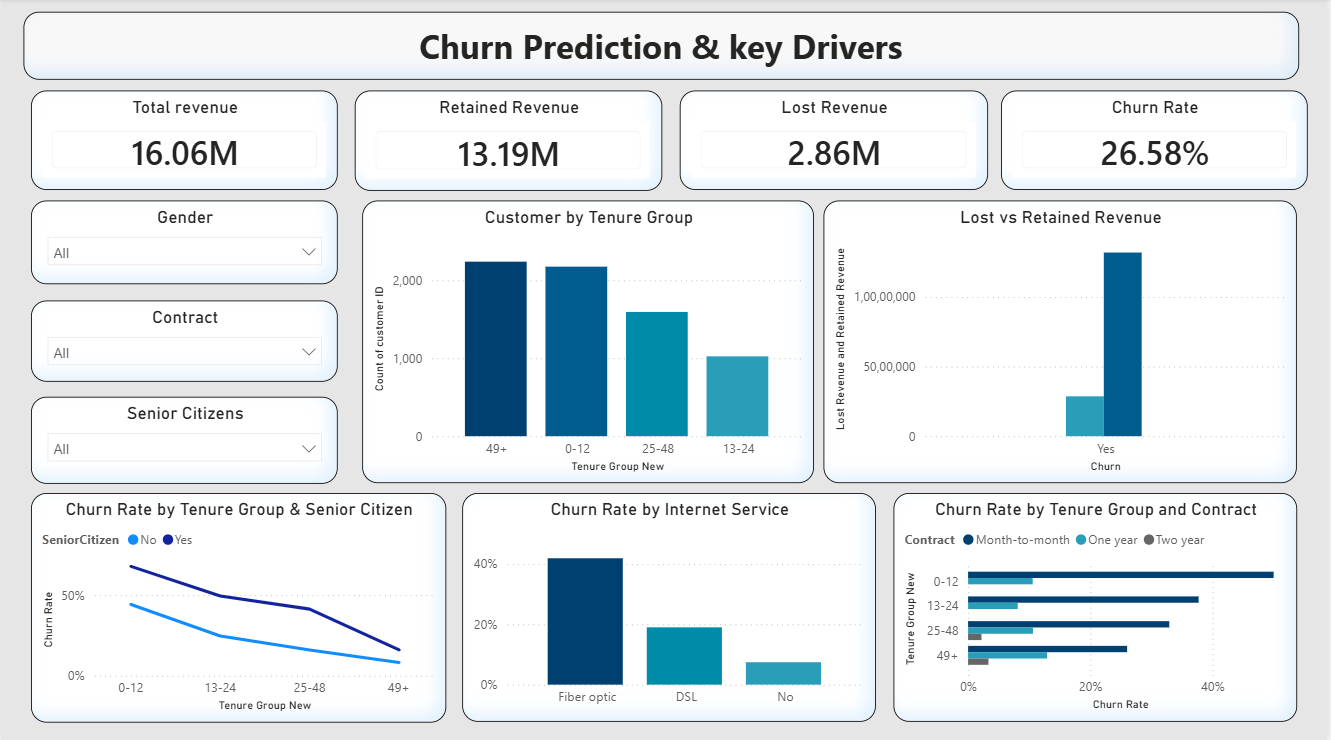

This screenshot's page, from the dashboard's own definition file:
{"tool":"powerbi","page":{"name":"🎯 Churn Prediction & Key Drivers","canvas":[1280,720],"ordinal":4},"visuals":[{"type":"slicer","title":"Gender","fields":{"Values":["Telco-Customer-Churn.gender"]},"box":[29,195.4,296.4,81],"z":0},{"type":"slicer","title":"Senior Citizens","fields":{"Values":["Telco-Customer-Churn.SeniorCitizen"]},"box":[29,384.9,296.4,83.7],"z":1000},{"type":"slicer","title":"Contract","fields":{"Values":["Telco-Customer-Churn.Contract"]},"box":[29,292,296.4,78.2],"z":2000},{"type":"cardVisual","title":"Total revenue","fields":{"Data":["Telco-Customer-Churn.Total Revenue"]},"box":[29,89.3,296.4,96.1],"z":3000},{"type":"cardVisual","title":"Churn Rate","fields":{"Data":["Telco-Customer-Churn.Churn Rate"]},"box":[965.2,89.3,296.4,96.1],"z":4000},{"type":"cardVisual","title":"Retained Revenue","fields":{"Data":["Telco-Customer-Churn.Retained Revenue"]},"box":[341.4,89.3,296.8,96.5],"z":5000},{"type":"cardVisual","title":"Lost Revenue","fields":{"Data":["Telco-Customer-Churn.Lost Revenue"]},"box":[654.5,89.2,297.8,96.1],"z":6000},{"type":"clusteredColumnChart","title":"Customer by Tenure Group","fields":{"Category":["Telco-Customer-Churn.Tenure Group New"],"Y":["CountNonNull(Telco-Customer-Churn.customer ID)"]},"box":[348.7,195.4,436.4,273.1],"z":7000},{"type":"clusteredColumnChart","title":"Lost vs Retained Revenue ","fields":{"Category":["Telco-Customer-Churn.Churn"],"Y":["Telco-Customer-Churn.Lost Revenue","Telco-Customer-Churn.Retained Revenue"]},"box":[793.8,195.4,456.9,273.1],"z":8000},{"type":"lineChart","title":"Churn Rate by Tenure Group & Senior Citizen","fields":{"Category":["Telco-Customer-Churn.Tenure Group New"],"Y":["Telco-Customer-Churn.Churn Rate"],"Series":["Telco-Customer-Churn.SeniorCitizen"]},"box":[29,477.8,400.5,222],"z":9000},{"type":"clusteredColumnChart","title":"Churn Rate by Internet Service","fields":{"Category":["Telco-Customer-Churn.InternetService"],"Y":["Telco-Customer-Churn.Churn Rate"]},"box":[445.2,477.8,399.3,220.8],"z":10000},{"type":"clusteredBarChart","title":"Churn Rate by Tenure Group and Contract","fields":{"Category":["Telco-Customer-Churn.Tenure Group New"],"Y":["Telco-Customer-Churn.Churn Rate"],"Series":["Telco-Customer-Churn.Contract"]},"box":[861.4,477.8,389.7,220.8],"z":11000},{"type":"textbox","box":[22,13.7,1230.9,65.9],"z":12000}]}

Visuals, with their boxes in screenshot pixels (x1, y1, x2, y2), scaled from the page's 1280x720 canvas onto the 1331x740 screenshot:
"Gender" slicer: bbox=(30, 201, 338, 284)
"Senior Citizens" slicer: bbox=(30, 396, 338, 482)
"Contract" slicer: bbox=(30, 300, 338, 380)
"Total revenue" cardVisual: bbox=(30, 92, 338, 191)
"Churn Rate" cardVisual: bbox=(1004, 92, 1312, 191)
"Retained Revenue" cardVisual: bbox=(355, 92, 664, 191)
"Lost Revenue" cardVisual: bbox=(681, 92, 990, 190)
"Customer by Tenure Group" clusteredColumnChart: bbox=(363, 201, 816, 482)
"Lost vs Retained Revenue " clusteredColumnChart: bbox=(825, 201, 1301, 482)
"Churn Rate by Tenure Group & Senior Citizen" lineChart: bbox=(30, 491, 447, 719)
"Churn Rate by Internet Service" clusteredColumnChart: bbox=(463, 491, 878, 718)
"Churn Rate by Tenure Group and Contract" clusteredBarChart: bbox=(896, 491, 1301, 718)
textbox: bbox=(23, 14, 1303, 82)
